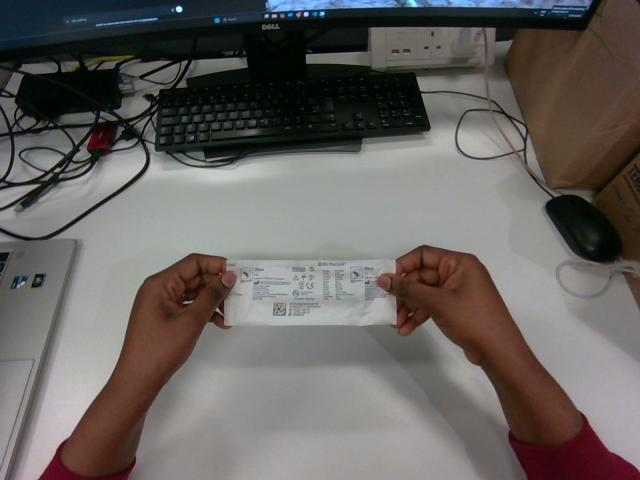syringe: (224, 260, 395, 325)
